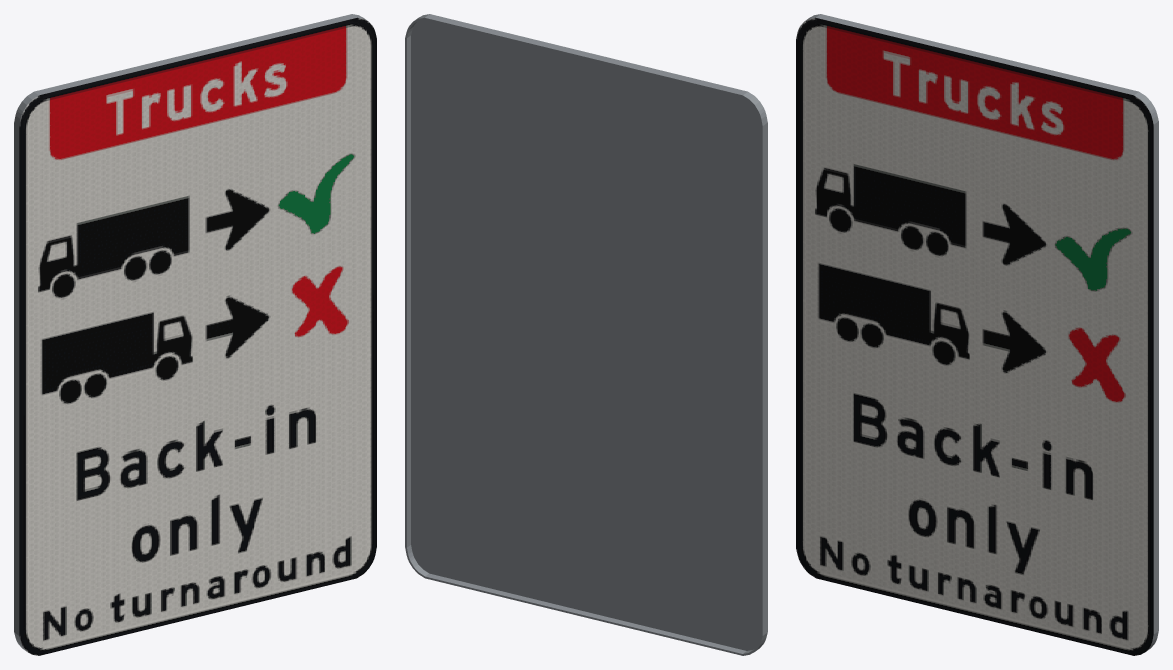
3 views of the same model, side by side, from view 1: azimuth 30°, elevation 25°; view 2: azimuth 150°, elevation 25°; view 3: azimuth 330°, elevation 25° (orthographic).
Visible parts, largest first — view 1: cat_3bb5c8e73d3e0edf; view 2: cat_3bb5c8e73d3e0edf; view 3: cat_3bb5c8e73d3e0edf.
Part boxes in pixels (left/top/right/bottom): cat_3bb5c8e73d3e0edf: left=14, top=14, right=376, bottom=655; cat_3bb5c8e73d3e0edf: left=405, top=14, right=767, bottom=655; cat_3bb5c8e73d3e0edf: left=796, top=14, right=1158, bottom=655.
Size of the model in its own units: 0.6 by 0.015 by 0.8989.
2 materials, 1 textured.
